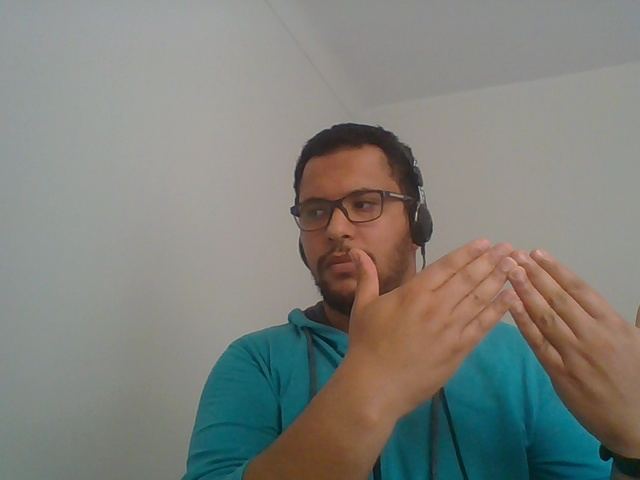thanks: (331, 226, 640, 480)
